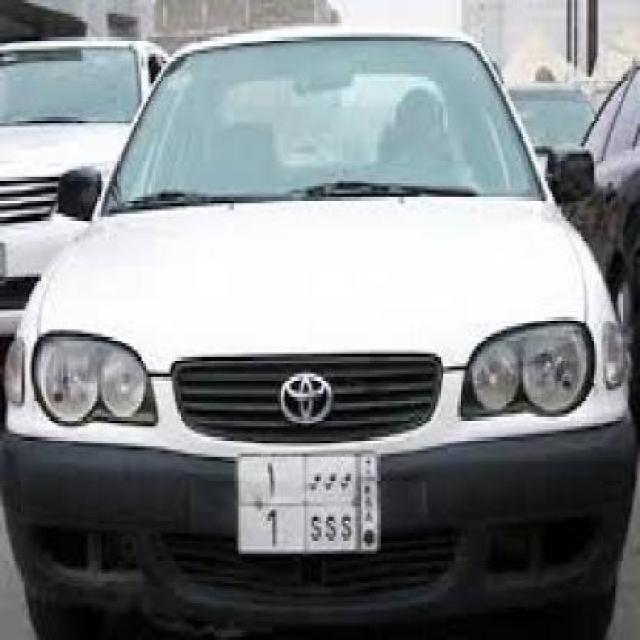license_plate: (233, 449, 382, 560)
